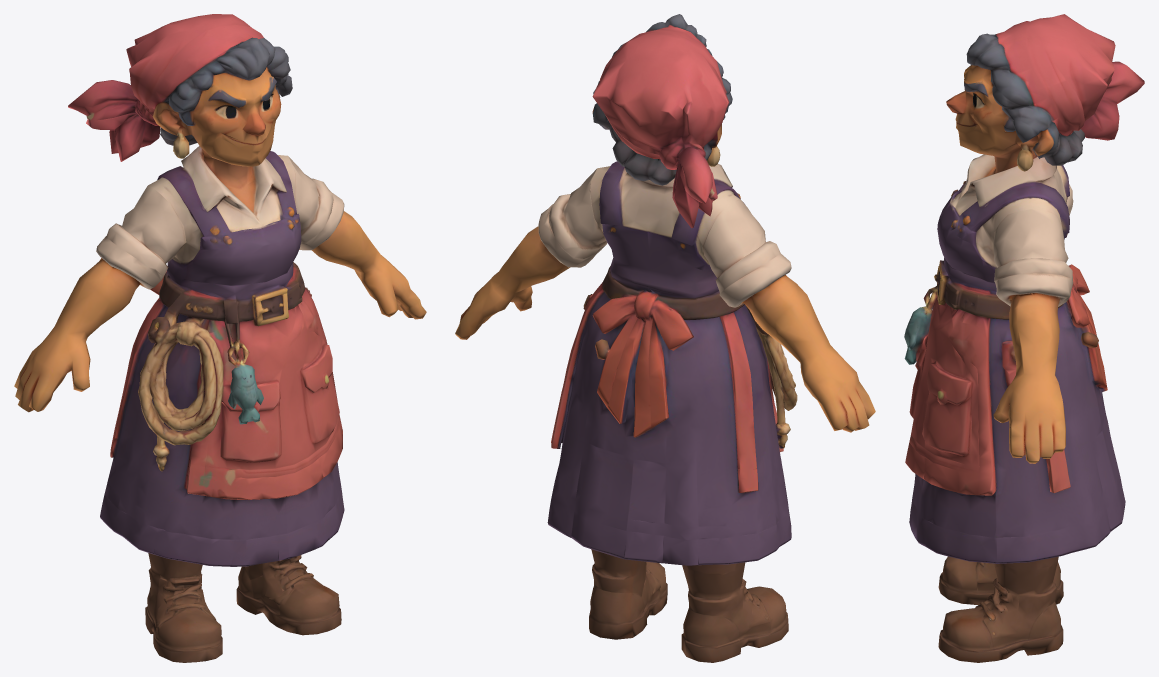
The model's file is mara.glb.
3 views of the same model, side by side, from view 1: azimuth 30°, elevation 25°; view 2: azimuth 150°, elevation 25°; view 3: azimuth 270°, elevation 25° (orthographic). The views are drawn at different scales.
Parts seen in each view (by area): view 1: tripo_node_b3d1a771-6a7b-41bc-bedc-60e6e979a64b; view 2: tripo_node_b3d1a771-6a7b-41bc-bedc-60e6e979a64b; view 3: tripo_node_b3d1a771-6a7b-41bc-bedc-60e6e979a64b.
Boxes of the visible parts, left/top/right/bottom form: tripo_node_b3d1a771-6a7b-41bc-bedc-60e6e979a64b: left=14, top=14, right=426, bottom=662; tripo_node_b3d1a771-6a7b-41bc-bedc-60e6e979a64b: left=455, top=14, right=875, bottom=662; tripo_node_b3d1a771-6a7b-41bc-bedc-60e6e979a64b: left=904, top=14, right=1144, bottom=662.
Bounding box in the file's own units: 1.12 × 1.6 × 0.5871.
1 material, 1 textured.
